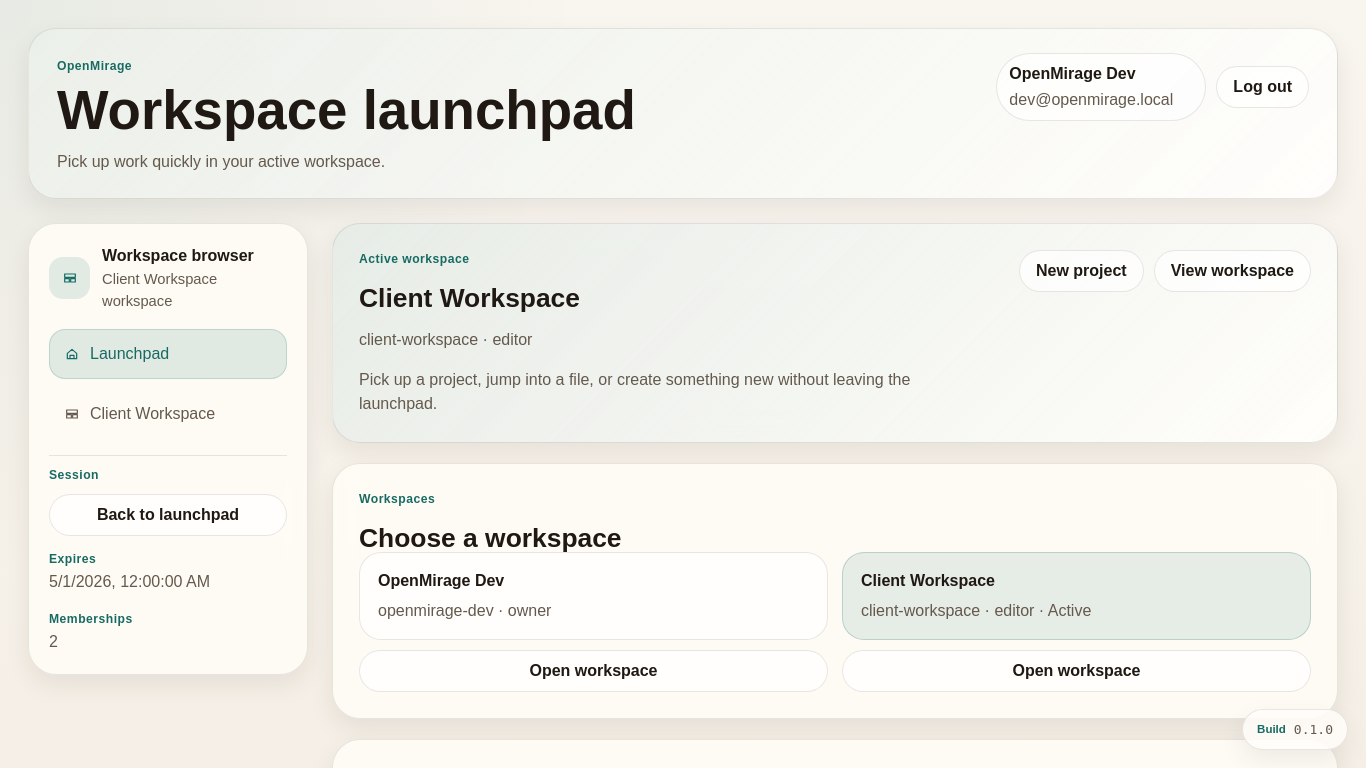
Test: App auth and routing flows › restores the last active workspace and updates browser-local memory when switching workspaces
Expected: the heading "Workspace launchpad" is shown, [57,85,636,136]
Expected: the heading "Client Workspace" is shown, [359,283,580,313]
Click the button "OpenMirage Dev openmirage-dev · owner" at (441, 581), box [359,552,828,640]
(page scrolled)
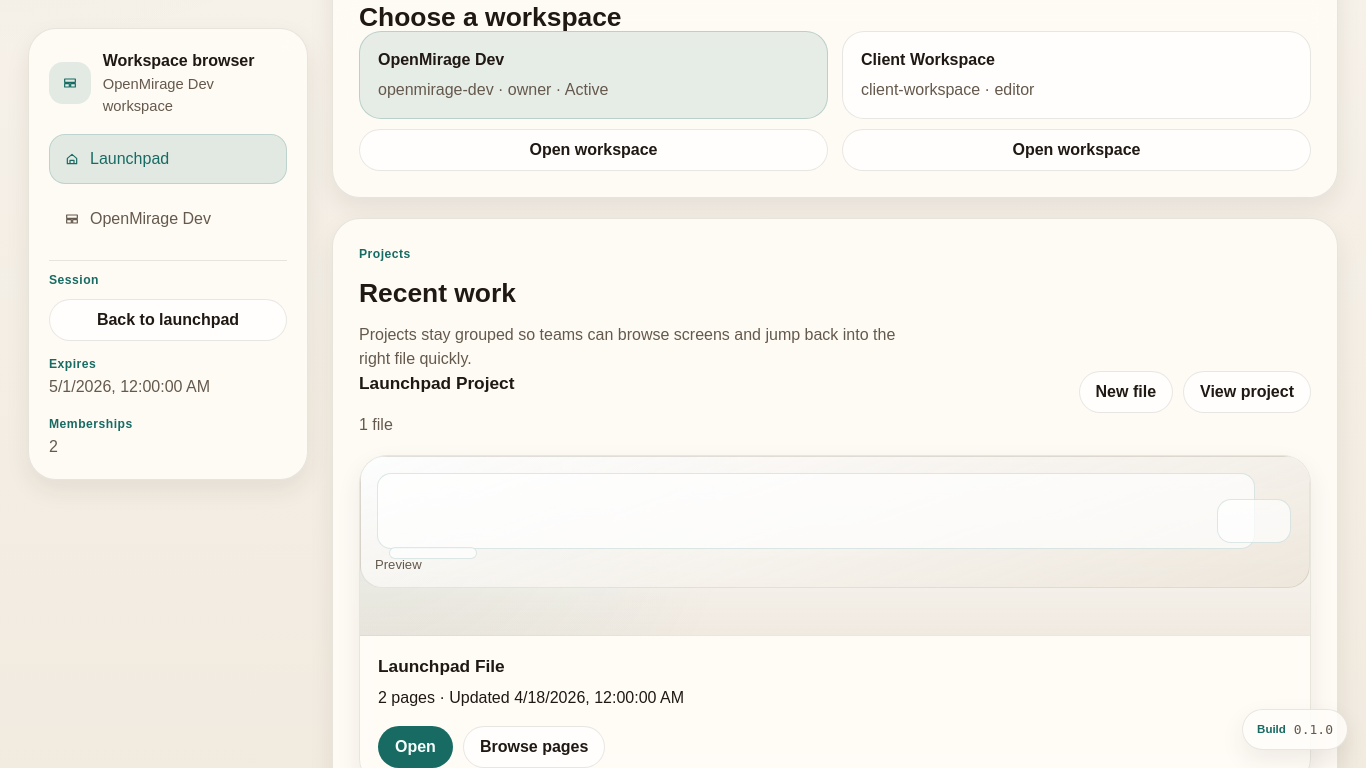
Now the heading "Launchpad Project" is shown, box [359,371,514,397]
